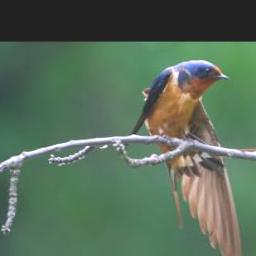Swallow: (122, 56, 246, 256)
